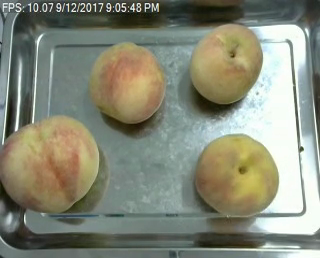Peach: (0, 114, 99, 216), (193, 132, 278, 217), (88, 42, 166, 125), (190, 22, 265, 105)
